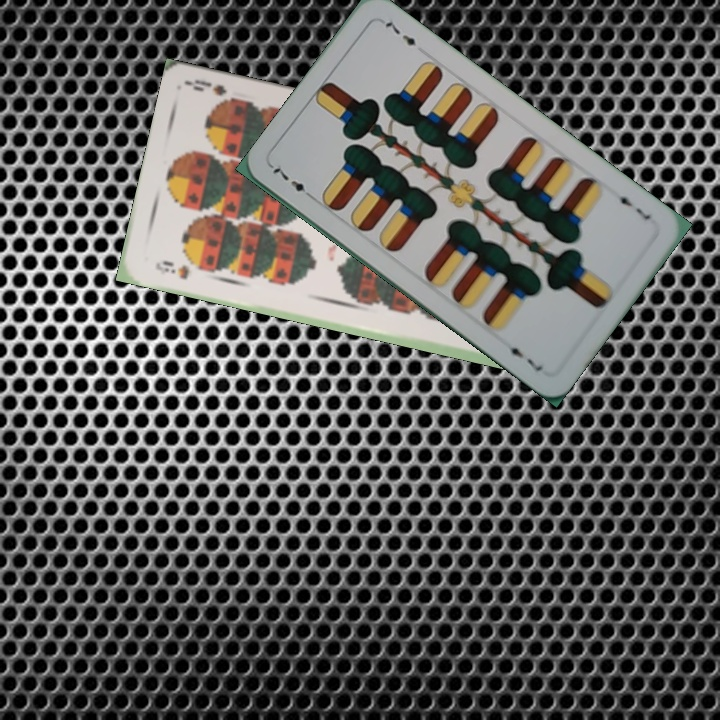E7: (268, 162, 318, 203), (611, 187, 653, 223)
S9: (151, 256, 192, 282)
